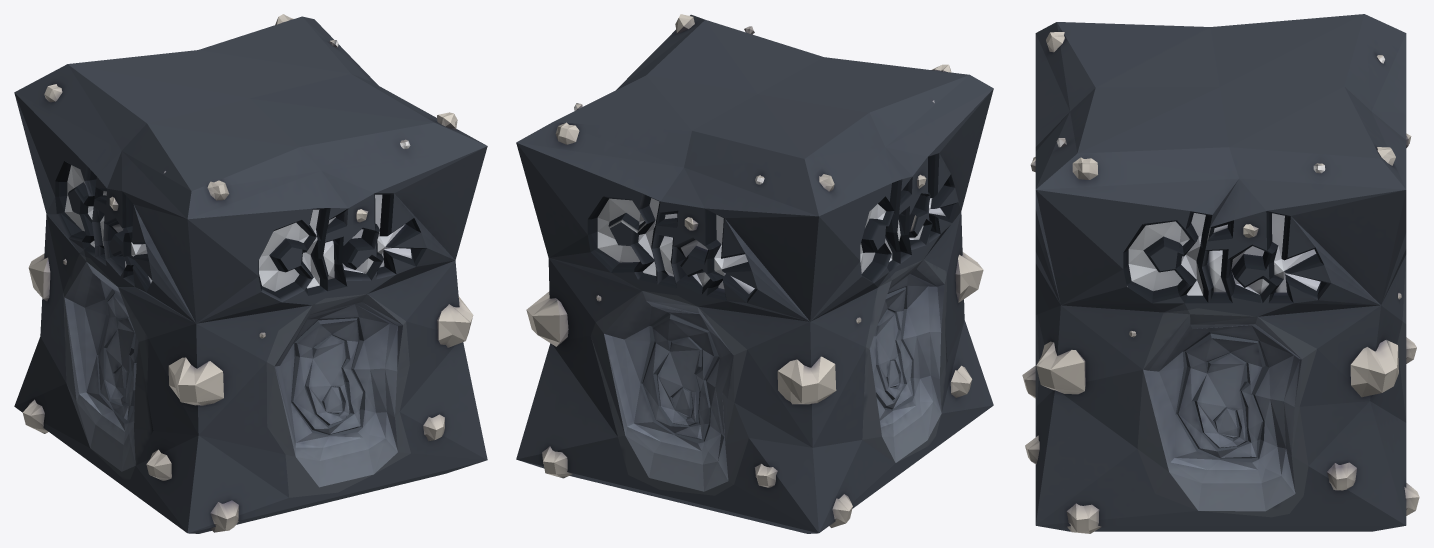
The model's file is Click_Stone_01.FBX.
3 views of the same model, side by side, from view 1: azimuth 30°, elevation 25°; view 2: azimuth 150°, elevation 25°; view 3: azimuth 270°, elevation 25° (orthographic). The views are drawn at different scales.
Parts seen in each view (by area): view 1: Click_Stone_01; view 2: Click_Stone_01; view 3: Click_Stone_01.
Part boxes in pixels (x1=…): Click_Stone_01: x1=14, y1=14, x2=487, y2=533; Click_Stone_01: x1=516, y1=14, x2=993, y2=533; Click_Stone_01: x1=1022, y1=14, x2=1419, y2=533.
Size of the model in its own units: 3 by 3.27 by 3.
